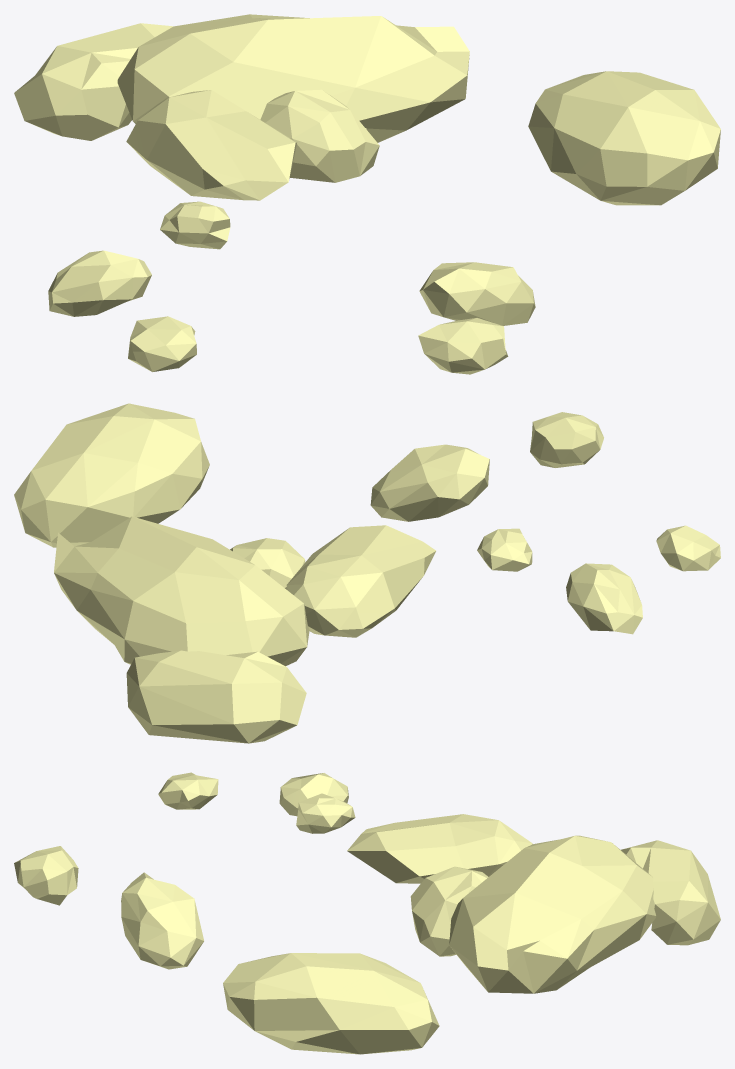
The model's file is MangaKa Props - N_C_Veg_Rocks_03.glb.
3 renders of one model, top to bottom at view 1: azimuth 30°, elevation 25°; view 2: azimuth 150°, elevation 25°; view 3: azimuth 270°, elevation 25°, orthographic. The views are drawn at different scales.
Visible parts, largest first — view 1: N_C_Veg_Rocks_03_blueScreen; view 2: N_C_Veg_Rocks_03_blueScreen; view 3: N_C_Veg_Rocks_03_blueScreen.
Boxes of the visible parts, bbox=[...] form: N_C_Veg_Rocks_03_blueScreen: bbox=[14, 14, 720, 374]; N_C_Veg_Rocks_03_blueScreen: bbox=[14, 403, 720, 743]; N_C_Veg_Rocks_03_blueScreen: bbox=[14, 772, 720, 1054].
Bounding box in the file's own units: 5.8 × 1.12 × 6.56.
